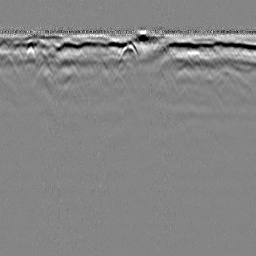cavity: (117, 42, 139, 64)
